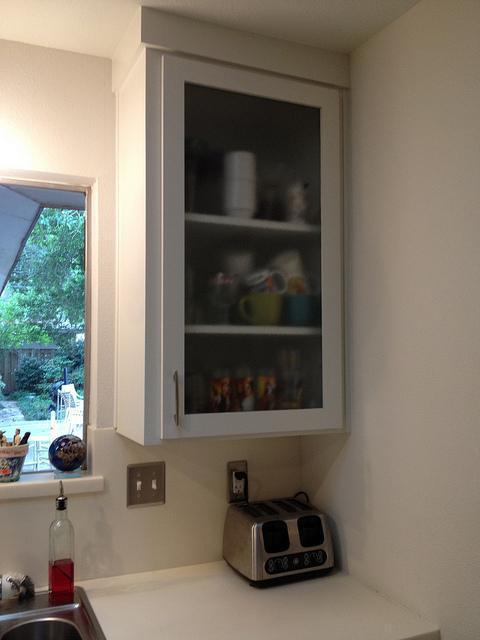Lavaplatos: (0, 568, 108, 639)
